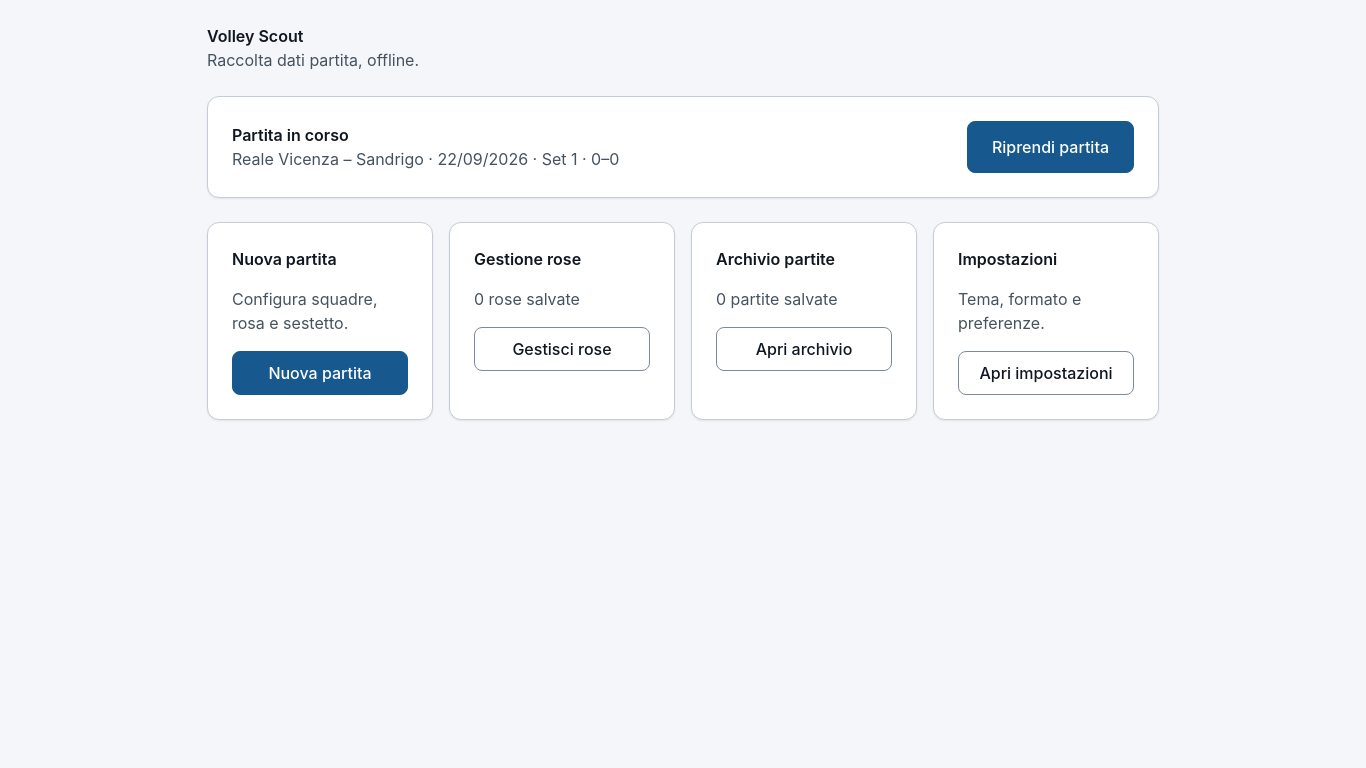
it: HomePage › asks for confirmation before starting a new match while one is unfinished
Click the button "Nuova partita". click: point(320, 373)
box: x1=232 y1=351 x2=408 y2=395
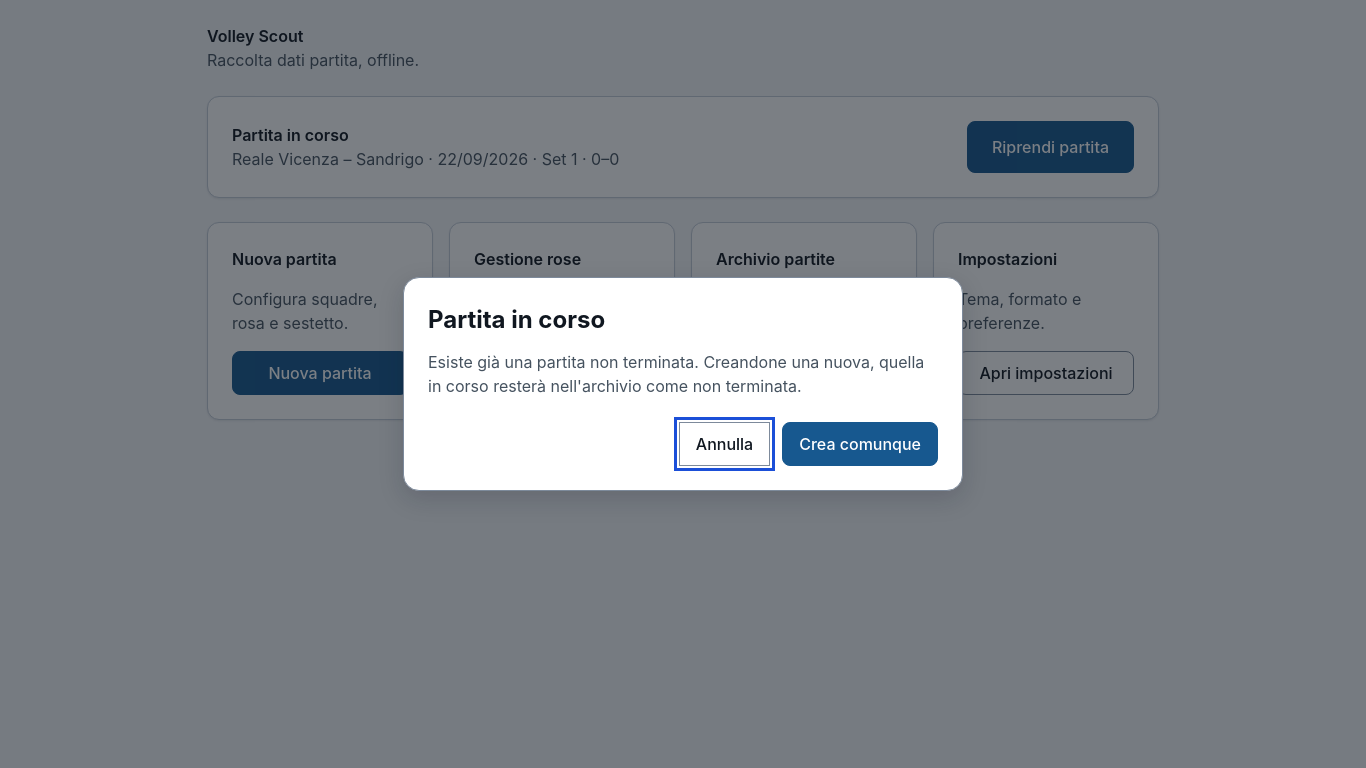
Check: the dialog "Partita in corso" is shown, box x1=403 y1=277 x2=963 y2=491
